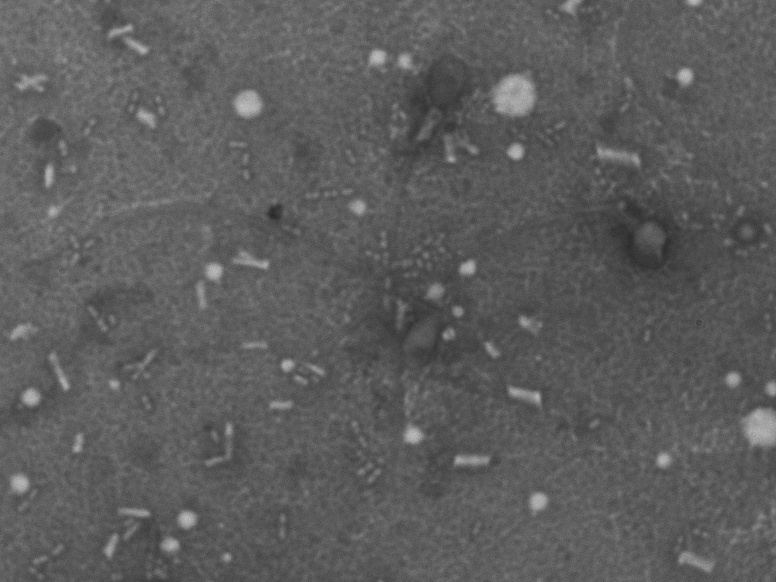Abnormal: (361, 39, 487, 284), (463, 175, 686, 304)
